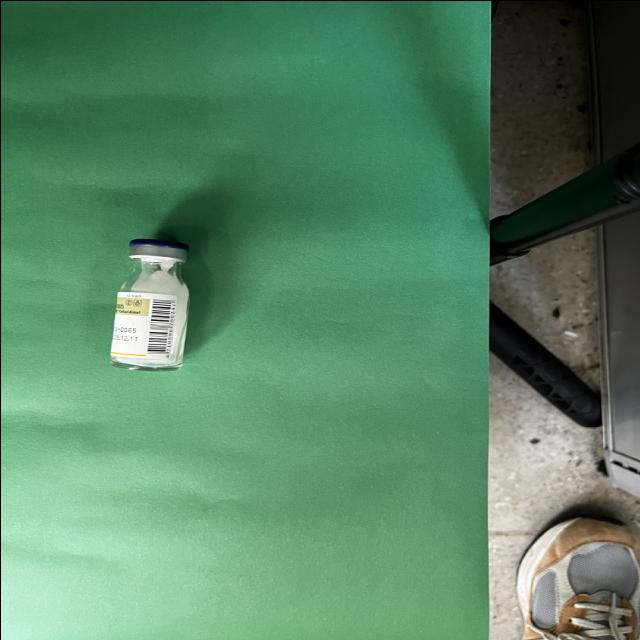Vials: (108, 237, 189, 370)
